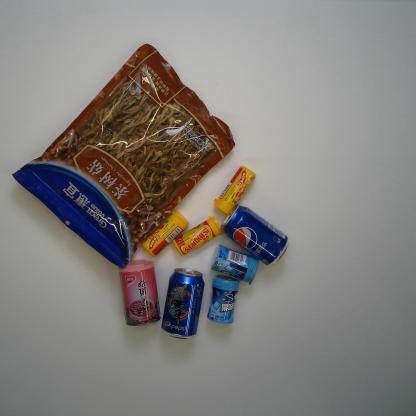Candy: (142, 210, 190, 258), (212, 165, 257, 216), (173, 215, 223, 257)
Canned Food: (117, 259, 162, 327)
Dried Food: (10, 42, 237, 269)
Drink: (221, 204, 290, 266), (160, 268, 206, 340)
Gum: (209, 244, 259, 285), (207, 275, 241, 324)
